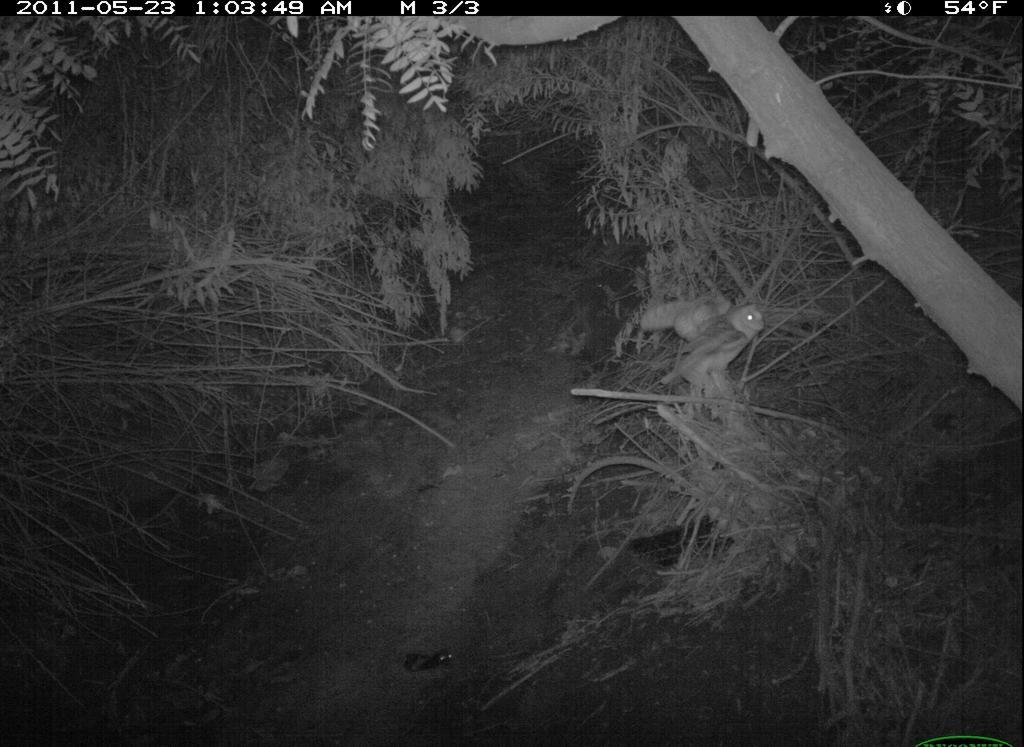bird: (638, 291, 771, 408)
